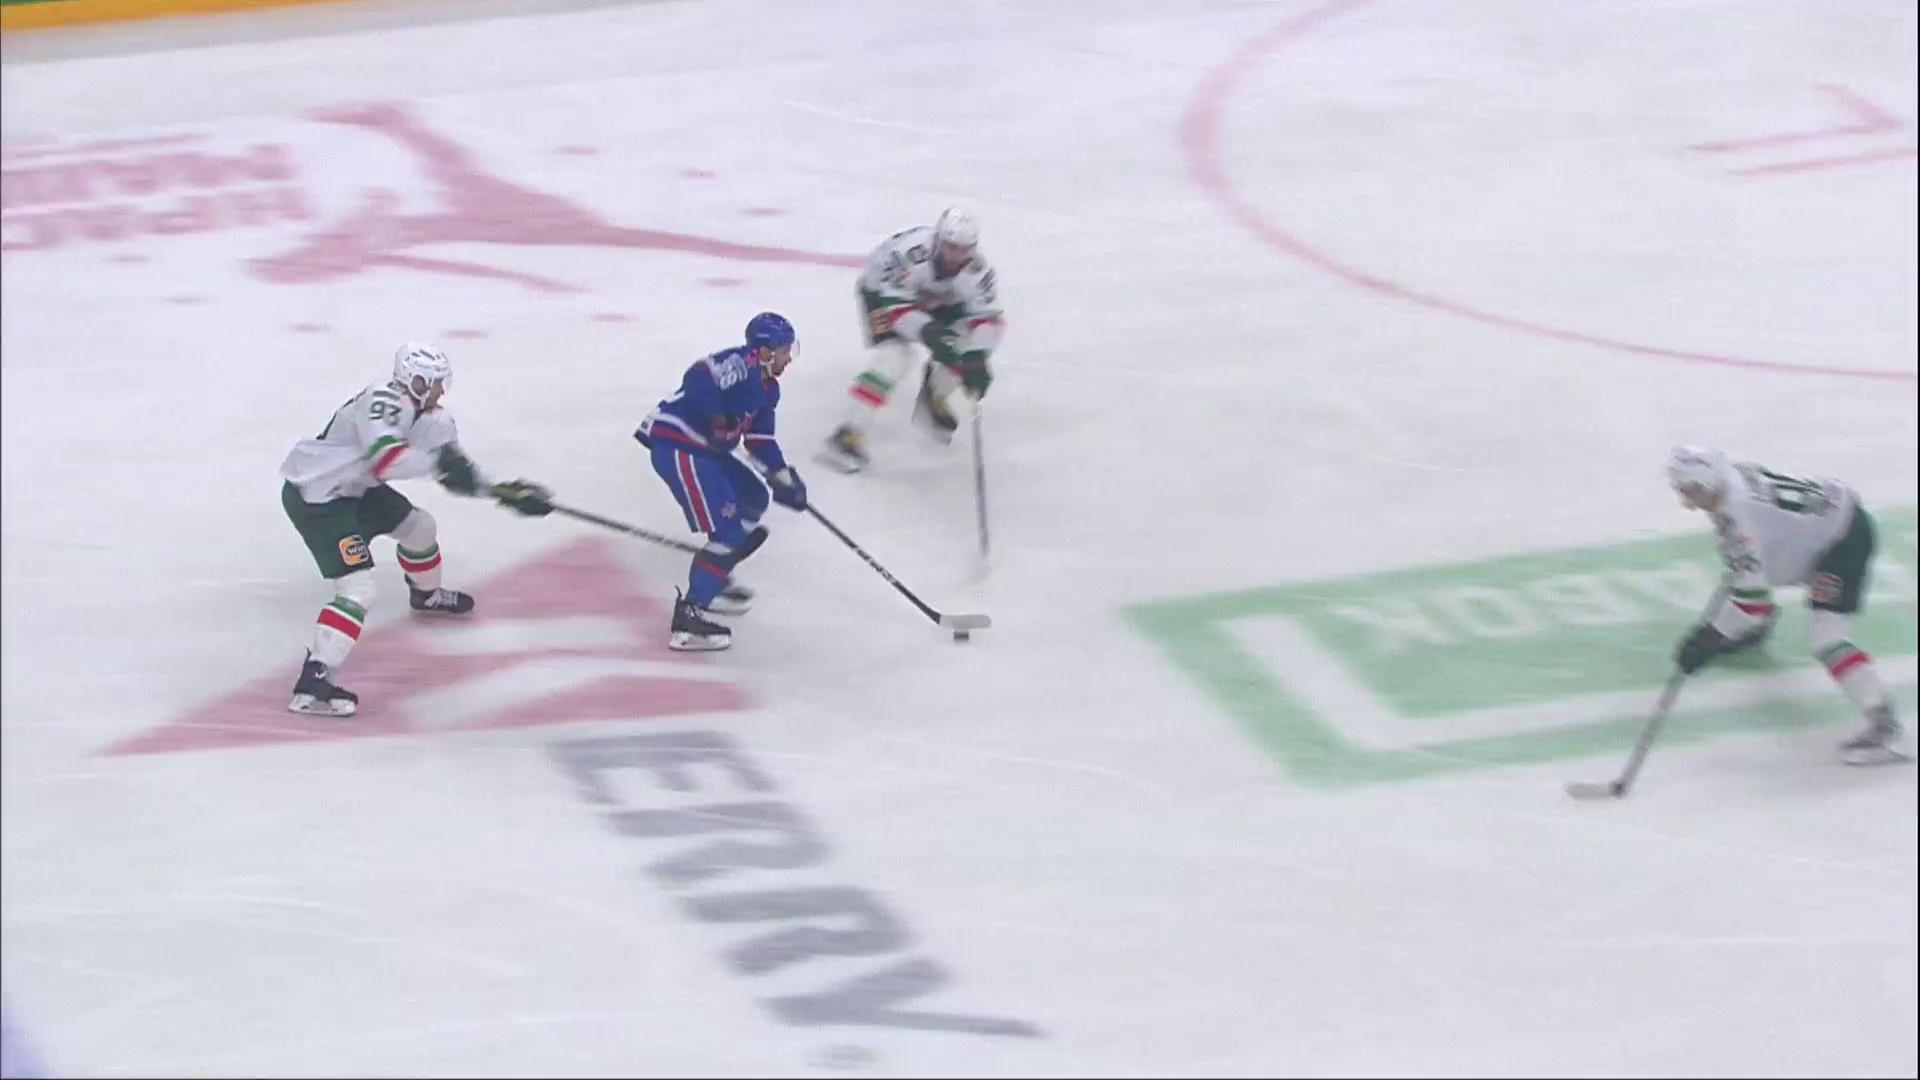ball: (953, 630, 971, 642)
